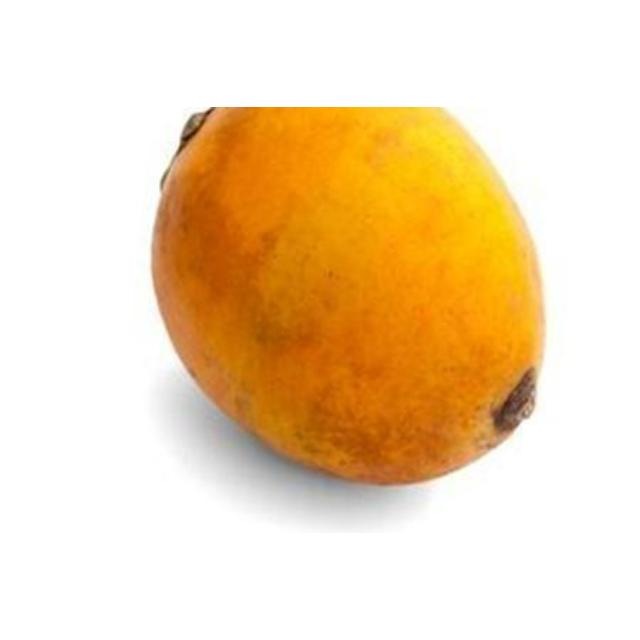good: (151, 107, 549, 487)
